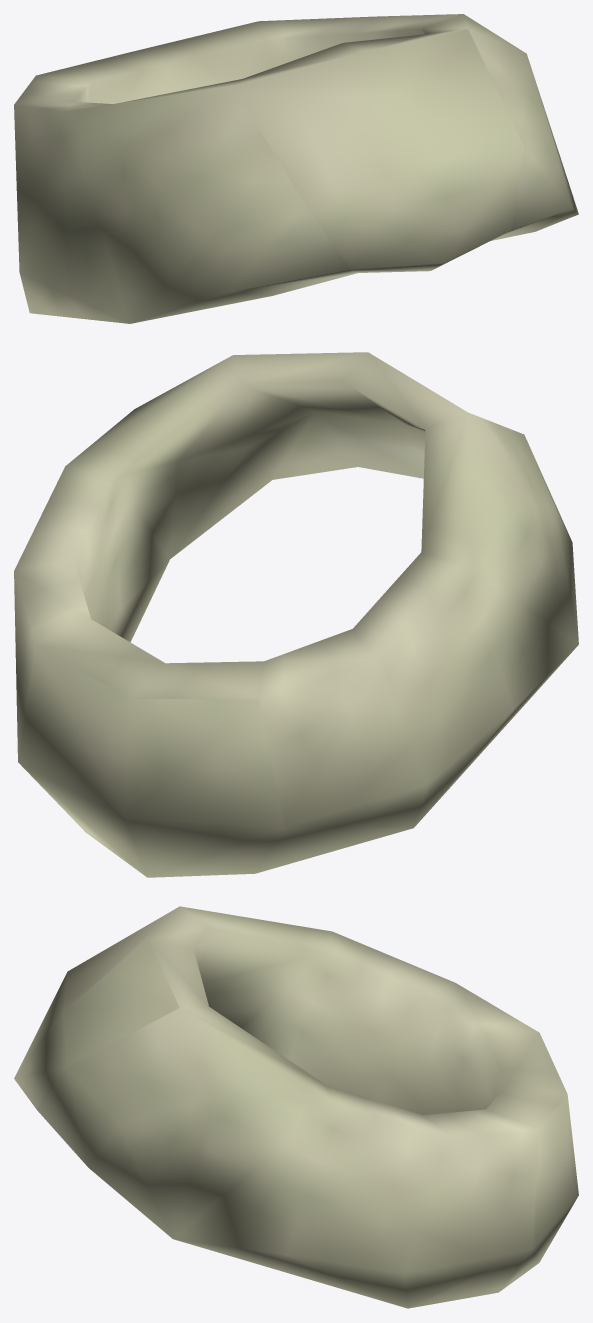
Rendered from inca_ba_1.dae.
3 renders of one model, top to bottom at view 1: azimuth 30°, elevation 25°; view 2: azimuth 150°, elevation 25°; view 3: azimuth 270°, elevation 25°, orthographic. The views are drawn at different scales.
Visible parts, largest first — view 1: faixa_01; view 2: faixa_01; view 3: faixa_01.
Part boxes in pixels (box(x1,y1,x2,y2)): faixa_01: box(14, 14, 578, 323); faixa_01: box(14, 352, 578, 877); faixa_01: box(14, 906, 578, 1308).
Bounding box in the file's own units: 0.4975 × 0.6123 × 0.3855.
